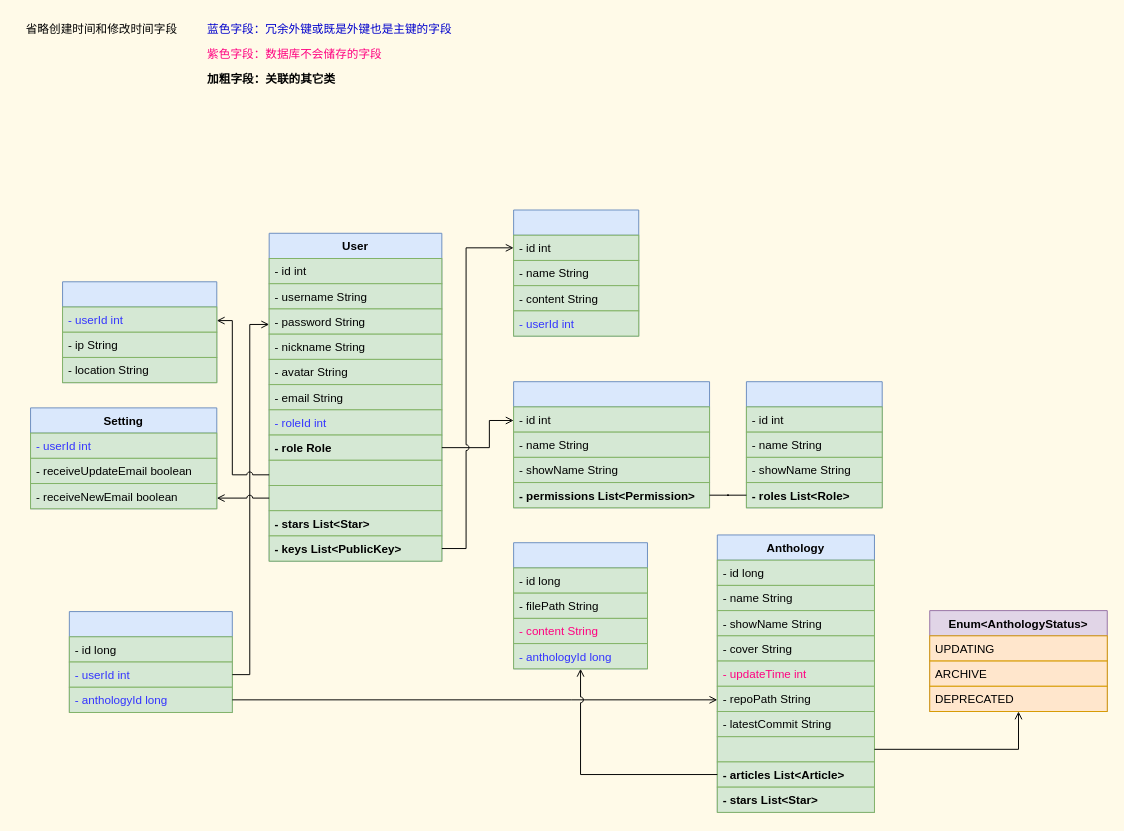
This 1124x831 diagram has some shape labels left out. Here are the shapes that lost their labels. From the top down, the box of each, then its label:
(513, 209, 639, 336): PublicKey
(62, 281, 217, 383): LoginRocord
(513, 381, 710, 508): Role
(745, 381, 882, 508): Permission
(268, 459, 442, 485): - loginRecord LoginRecord
(268, 485, 442, 511): - setting Setting
(513, 542, 647, 669): Article
(68, 611, 232, 712): Star
(716, 736, 874, 762): - status AnthologyStatus
